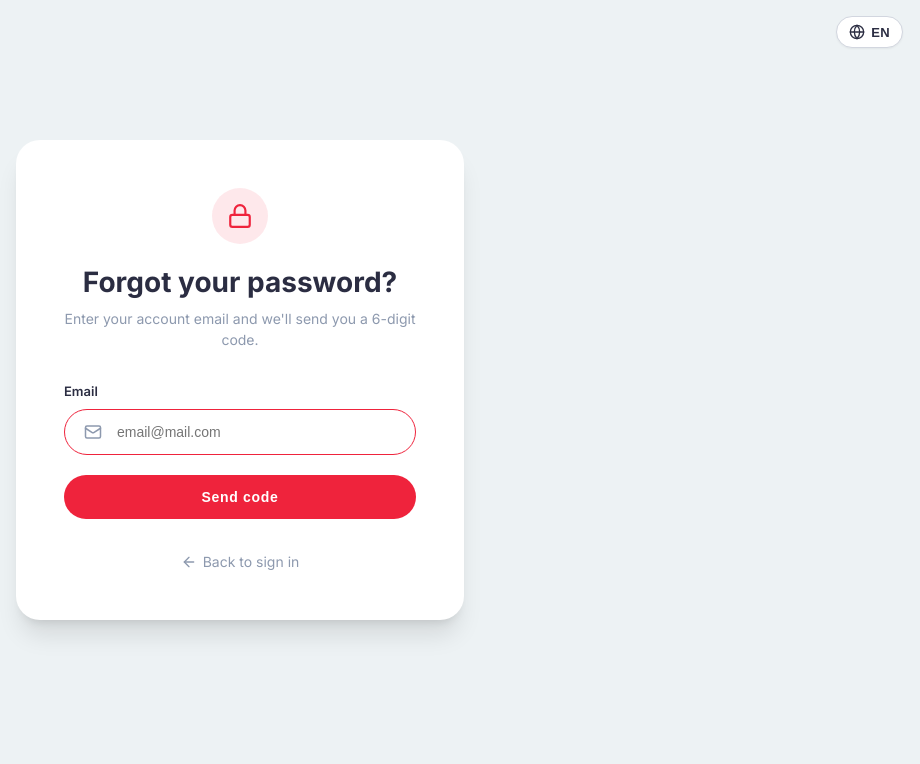
it: ForgotPasswordPage › requests a code and moves to the code step
Type "ana@example.com" into the field labelled "Email" at (240, 432), box [64,409,416,455]
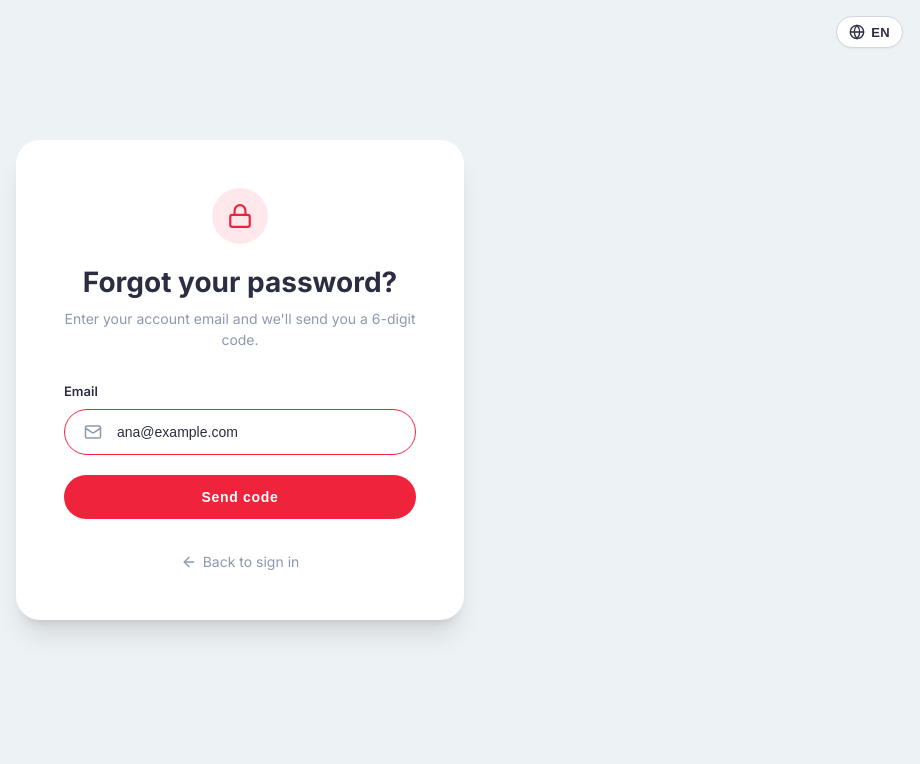
Click the button "Send code" at (240, 497), box [64,475,416,519]
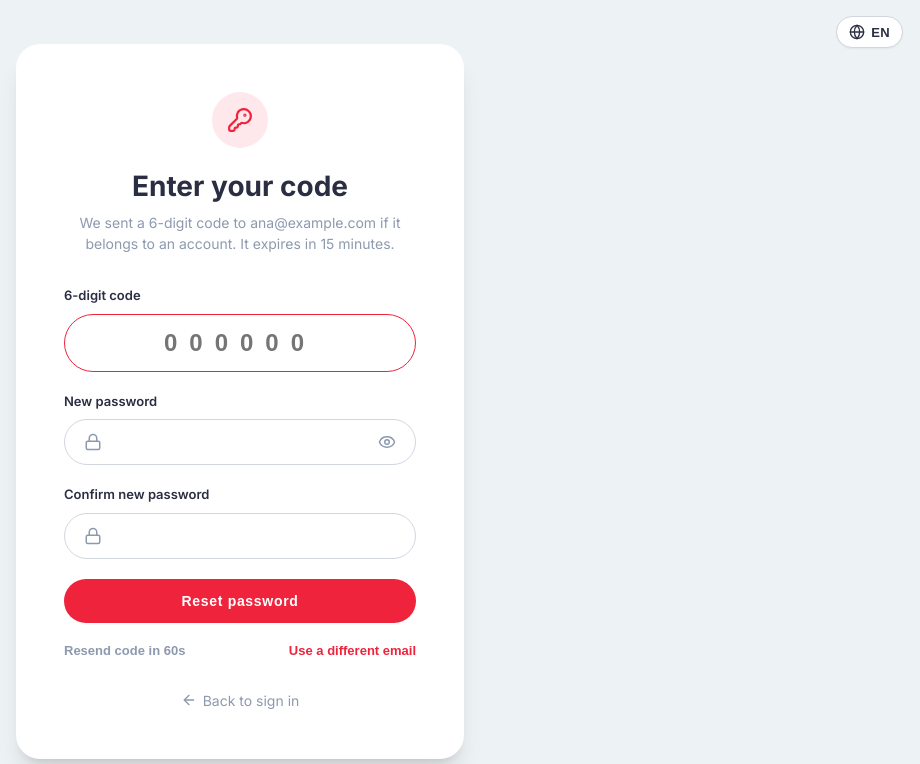
Expected: the field labelled "6-digit code" is shown, [64,314,416,372]
Expected: the text "ana@example.com" is shown, [79,214,400,252]
Expected: the button "Resend code in 60s" is disabled, [64,642,185,658]
